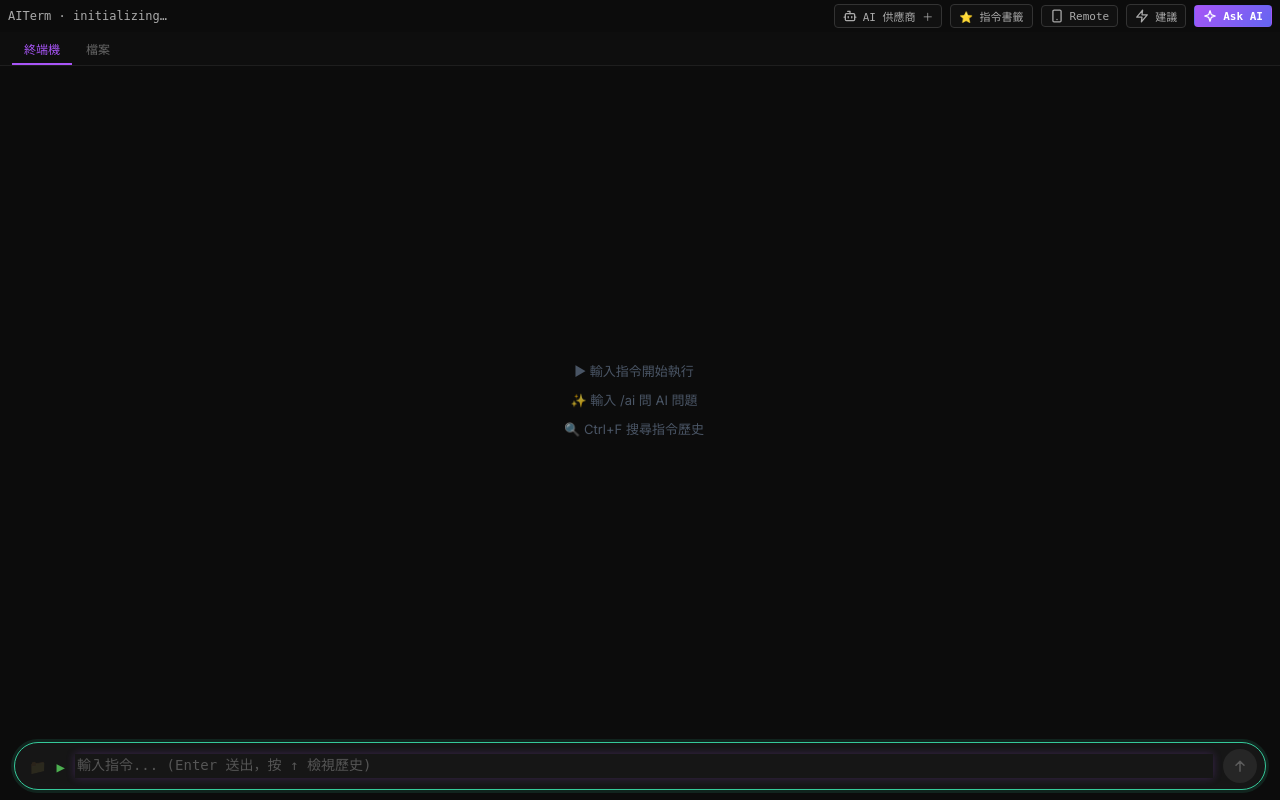
Test: TerminalView：設定的接受鍵會傳到輸入框 › 設定 tab：輸入開頭後出現灰字，Tab 補上
Type "echo he" into the text box with placeholder "輸入指令... (Enter 送出，按 ↑ 檢視歷史)". click: (644,766)
box: [75,754,1213,778]
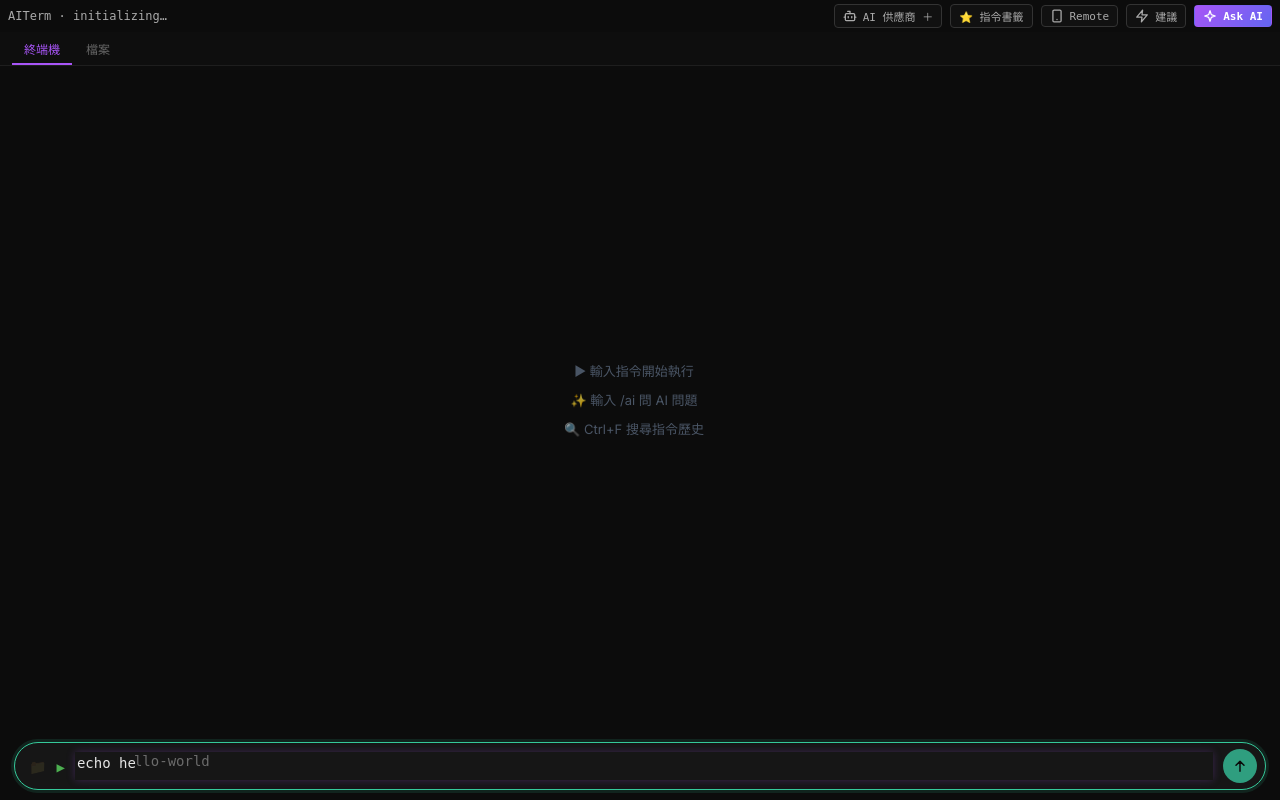
Now the text with class "warp-input-ghost-suggestion" reads "llo-world", box [134,753,210,769]
Press Tab in the text box with placeholder "輸入指令... (Enter 送出，按 ↑ 檢視歷史)", box [75,752,1213,780]
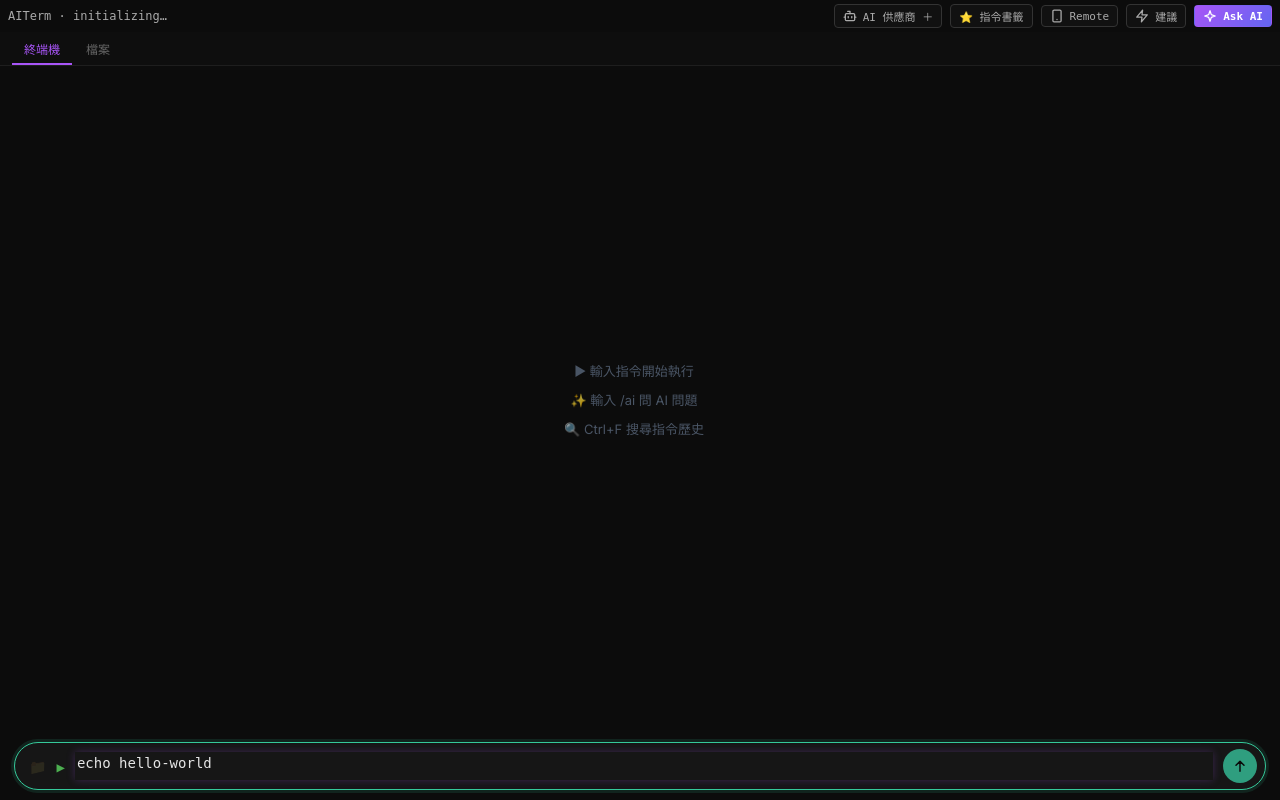
Now the text box with placeholder "輸入指令... (Enter 送出，按 ↑ 檢視歷史)" holds "echo hello-world", box [75,752,1213,780]
